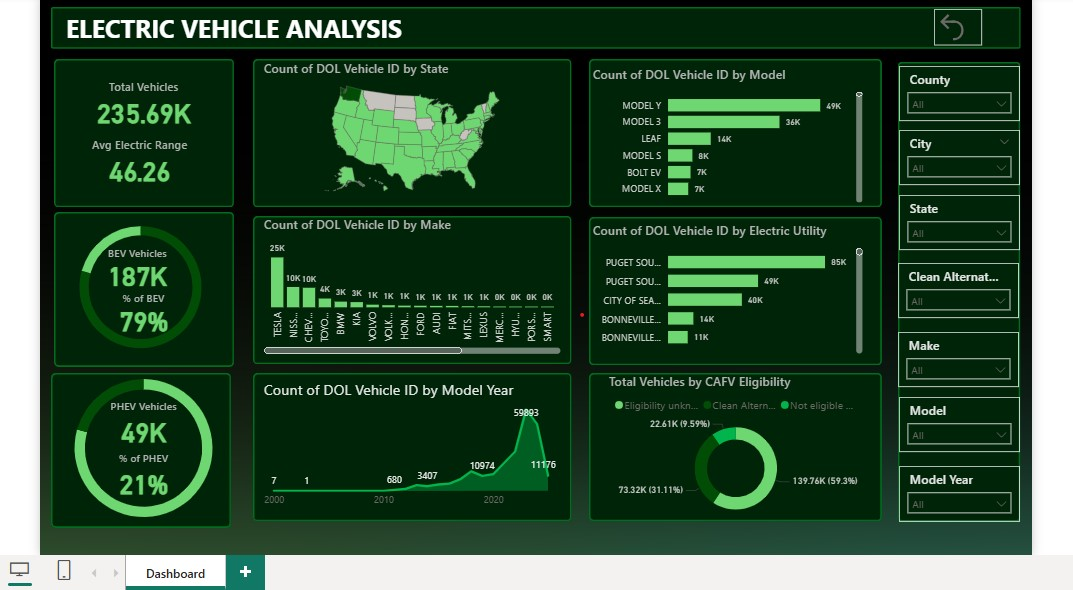

This screenshot's page, from the dashboard's own definition file:
{"tool":"powerbi","page":{"name":"Page 3","canvas":[1280,720],"ordinal":0},"visuals":[{"type":"shape","box":[1107,84,157.9,593],"z":0},{"type":"shape","box":[708.9,485.5,378,191.5],"z":1000},{"type":"shape","box":[708.9,283.9,378,191.5],"z":2000},{"type":"shape","box":[708.9,80.6,378,191.5],"z":3000},{"type":"shape","box":[275,282,411,191.3],"z":4000},{"type":"shape","box":[275,484.7,411,191.3],"z":5000},{"type":"shape","box":[275,79.4,411,191.3],"z":6000},{"type":"shape","box":[14.2,484.7,232.4,199.8],"z":7000},{"type":"shape","box":[18.4,277.8,232.4,199.8],"z":8000},{"type":"shape","box":[18.4,79.4,232.4,191.3],"z":9000},{"type":"shape","box":[14.2,12.8,1251.5,53.9],"z":10000},{"type":"textbox","box":[28.3,12.8,466.3,53.9],"z":11000},{"type":"barChart","fields":{"Y":["Count(EV.DOL Vehicle ID)"],"Category":["EV.Model"]},"box":[708.9,89,357.8,181.4],"z":12000},{"type":"slicer","fields":{"Values":["EV.County"]},"box":[1108.7,89,156.2,70.6],"z":13000},{"type":"slicer","fields":{"Values":["EV.City"]},"box":[1108.7,171.3,156.2,70.6],"z":14000},{"type":"slicer","fields":{"Values":["EV.State"]},"box":[1108.7,255.3,156.2,70.6],"z":15000},{"type":"donutChart","title":"Total Vehicles by CAFV Eligibility","fields":{"Category":["EV.Clean Alternative Fuel Vehicle (CAFV) Eligibility"],"Y":["Count(EV.DOL Vehicle ID)"]},"box":[729,485.5,337.6,196.5],"z":16000},{"type":"shapeMap","fields":{"Category":["EV.State"],"Value":["CountNonNull(EV.DOL Vehicle ID)"]},"box":[283.5,80.8,392.6,181.4],"z":17000},{"type":"columnChart","fields":{"Y":["Count(EV.DOL Vehicle ID)"],"Category":["EV.Make"]},"box":[283.5,282,392.6,182.8],"z":18000},{"type":"barChart","fields":{"Y":["Count(EV.DOL Vehicle ID)"],"Category":["EV.Electric Utility"]},"box":[708.9,290.6,357.8,174.7],"z":19000},{"type":"slicer","fields":{"Values":["EV.Clean Alternative Fuel Vehicle (CAFV) Eligibility"]},"box":[1107,342.7,156.2,70.6],"z":20000},{"type":"slicer","fields":{"Values":["EV.Make"]},"box":[1107,431.7,156.2,70.6],"z":21000},{"type":"slicer","fields":{"Values":["EV.Model"]},"box":[1108.7,515.7,156.2,70.6],"z":22000},{"type":"slicer","fields":{"Values":["EV.Model Year"]},"box":[1108.7,604.7,156.2,72.2],"z":23000},{"type":"lineChart","fields":{"Category":["EV.Model Year"],"Y":["Count(EV.DOL Vehicle ID)"]},"box":[283.5,493.2,389.8,174.3],"z":24000},{"type":"donutChart","fields":{"Category":["EV.Electric Vehicle Type"],"Y":["Count(EV.DOL Vehicle ID)"]},"box":[0,270.7,259.4,206.9],"z":25000},{"type":"card","title":"BEV Vehicles","fields":{"Values":["EV.BEV Vehicles"]},"box":[58.8,320.8,132.7,57.1],"z":26000},{"type":"card","title":"% of BEV","fields":{"Values":["EV.% of BEV"]},"box":[59.5,379.8,148.8,58.1],"z":27000},{"type":"donutChart","fields":{"Category":["EV.Electric Vehicle Type"],"Y":["Count(EV.DOL Vehicle ID)"]},"box":[4.3,466.3,259.4,232.4],"z":28000},{"type":"card","title":"PHEV Vehicles","fields":{"Values":["EV.PHEV Vehicles"]},"box":[59.5,518.7,148.8,63.8],"z":29000},{"type":"card","title":"% of PHEV ","fields":{"Values":["EV.% of PHEV"]},"box":[59.5,585.4,148.8,63.8],"z":30000},{"type":"card","title":"Total Vehicles","fields":{"Values":["Count(EV.DOL Vehicle ID)"]},"box":[29.8,106.3,208.3,65.2],"z":31000},{"type":"card","title":"Avg Electric Range","fields":{"Values":["Avg(EV.Electric Range)"]},"box":[24.1,180,208.3,65.2],"z":32000},{"type":"actionButton","box":[1153.7,15.6,62.4,46.8],"z":32001}]}

Visuals, with their boxes on the page's 1280x720 design canvas (x1, y1, x2, y2). These are canvas units, not pixel positions in the 1073x590 screenshot, which may show the page scaled, cropped or inside an application window:
shape: [x1=1107, y1=84, x2=1265, y2=677]
shape: [x1=709, y1=486, x2=1087, y2=677]
shape: [x1=709, y1=284, x2=1087, y2=475]
shape: [x1=709, y1=81, x2=1087, y2=272]
shape: [x1=275, y1=282, x2=686, y2=473]
shape: [x1=275, y1=485, x2=686, y2=676]
shape: [x1=275, y1=79, x2=686, y2=271]
shape: [x1=14, y1=485, x2=247, y2=684]
shape: [x1=18, y1=278, x2=251, y2=478]
shape: [x1=18, y1=79, x2=251, y2=271]
shape: [x1=14, y1=13, x2=1266, y2=67]
textbox: [x1=28, y1=13, x2=495, y2=67]
barChart - Count(EV.DOL Vehicle ID) x EV.Model: [x1=709, y1=89, x2=1067, y2=270]
slicer - EV.County: [x1=1109, y1=89, x2=1265, y2=160]
slicer - EV.City: [x1=1109, y1=171, x2=1265, y2=242]
slicer - EV.State: [x1=1109, y1=255, x2=1265, y2=326]
"Total Vehicles by CAFV Eligibility" donutChart: [x1=729, y1=486, x2=1067, y2=682]
shapeMap - EV.State x CountNonNull(EV.DOL Vehicle ID): [x1=284, y1=81, x2=676, y2=262]
columnChart - Count(EV.DOL Vehicle ID) x EV.Make: [x1=284, y1=282, x2=676, y2=465]
barChart - Count(EV.DOL Vehicle ID) x EV.Electric Utility: [x1=709, y1=291, x2=1067, y2=465]
slicer - EV.Clean Alternative Fuel Vehicle (CAFV) Eligibility: [x1=1107, y1=343, x2=1263, y2=413]
slicer - EV.Make: [x1=1107, y1=432, x2=1263, y2=502]
slicer - EV.Model: [x1=1109, y1=516, x2=1265, y2=586]
slicer - EV.Model Year: [x1=1109, y1=605, x2=1265, y2=677]
lineChart - EV.Model Year x Count(EV.DOL Vehicle ID): [x1=284, y1=493, x2=673, y2=668]
donutChart - EV.Electric Vehicle Type x Count(EV.DOL Vehicle ID): [x1=0, y1=271, x2=259, y2=478]
"BEV Vehicles" card: [x1=59, y1=321, x2=192, y2=378]
"% of BEV" card: [x1=60, y1=380, x2=208, y2=438]
donutChart - EV.Electric Vehicle Type x Count(EV.DOL Vehicle ID): [x1=4, y1=466, x2=264, y2=699]
"PHEV Vehicles" card: [x1=60, y1=519, x2=208, y2=582]
"% of PHEV " card: [x1=60, y1=585, x2=208, y2=649]
"Total Vehicles" card: [x1=30, y1=106, x2=238, y2=172]
"Avg Electric Range" card: [x1=24, y1=180, x2=232, y2=245]
actionButton: [x1=1154, y1=16, x2=1216, y2=62]
